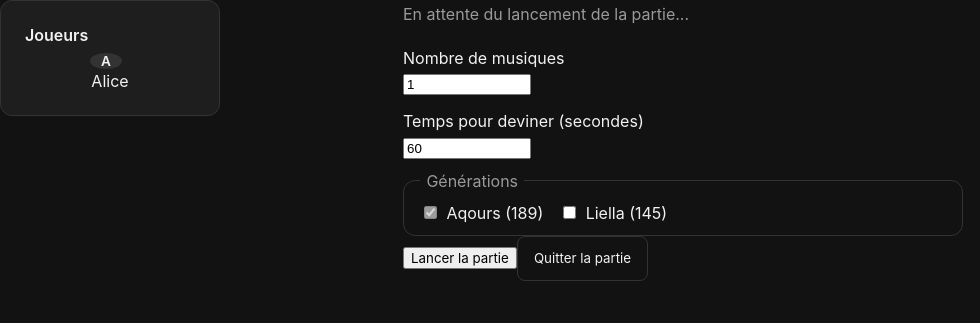
Lobby › shows an error when updating the generations fails
What coordinates should you click on to do the following:
click the checkbox labelled "Liella (145)"
I would click on:
 (570, 213)
Its box is [563,206,576,219].
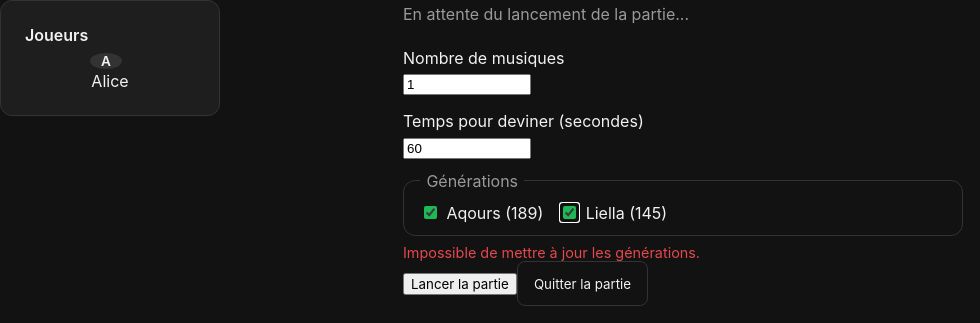
Now the message reads "Impossible de mettre à jour les générations.", box [403,244,700,261]
